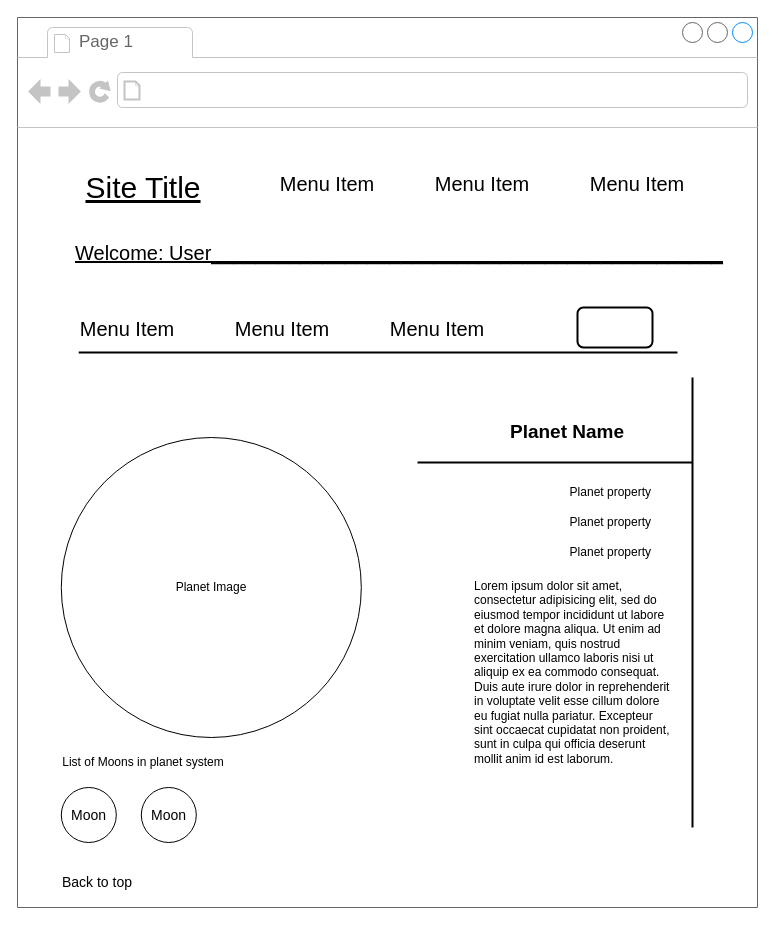
This 775x925 diagram has some shape labels left out. The centre of each missing label's shape, as x and y in pixels:
"Delete" goes at (x=614, y=327).
"http://127.0.0.1:5005/" goes at (x=272, y=90).
